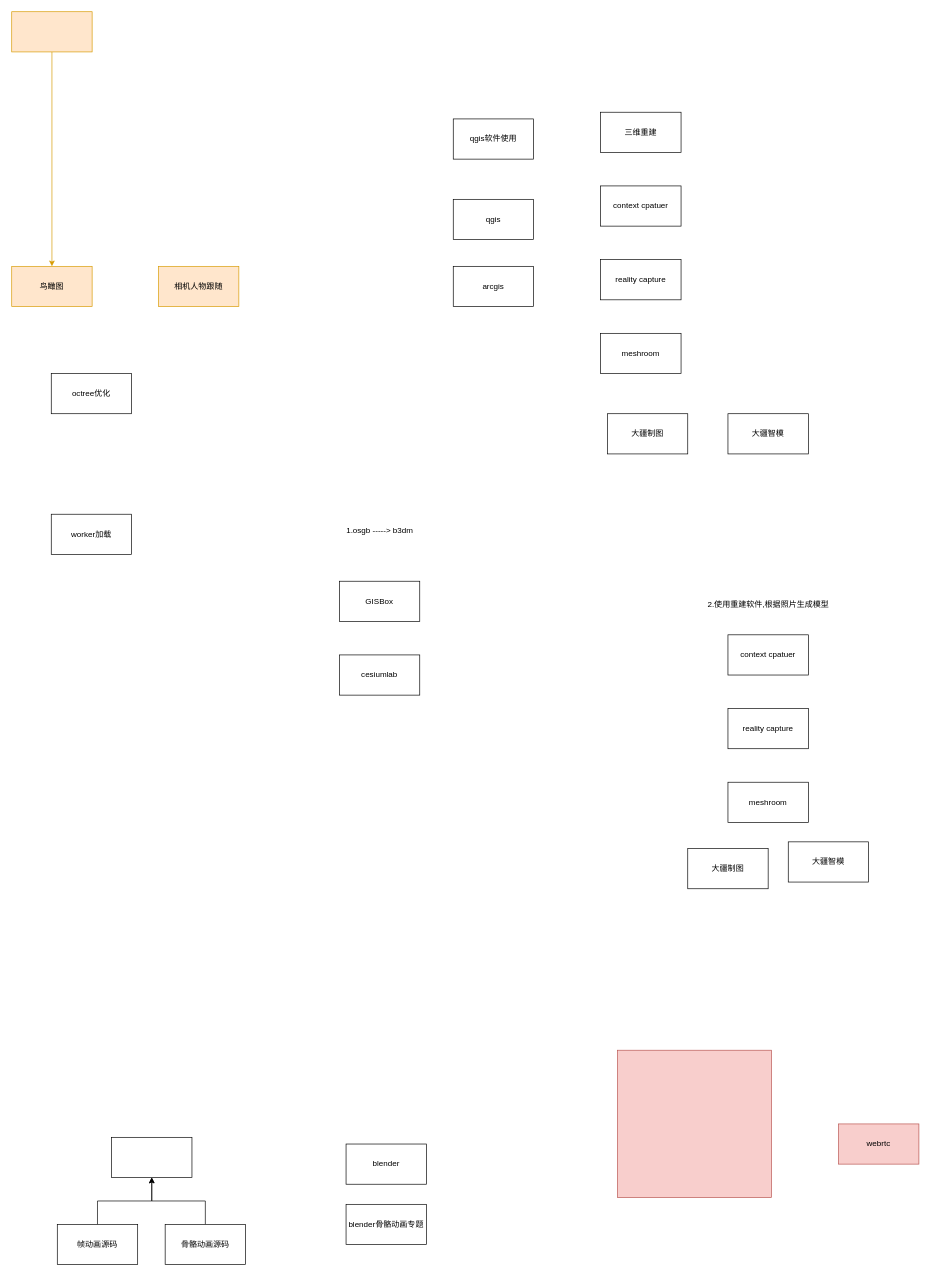
Image size: 931x1276. Some labels were removed from this diagram. Here are the shapes that lost their labels. From the top down, the box of each, then its label:
(11, 11, 92, 52): post-processing
(617, 1050, 772, 1198): 1.视角切换 2.添加第三人称 3.移动端适配
(111, 1137, 192, 1178): threejs
